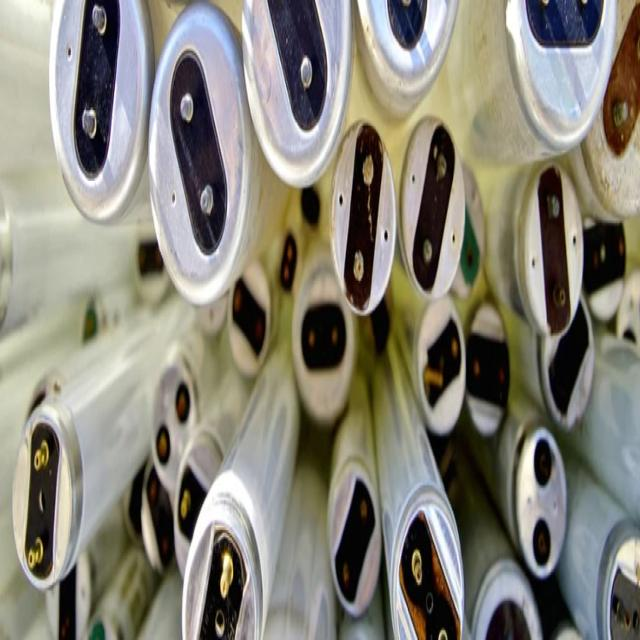electronic: (7, 0, 638, 637), (180, 345, 300, 637), (147, 0, 261, 307), (47, 0, 154, 224), (328, 118, 396, 316), (397, 115, 465, 302)
